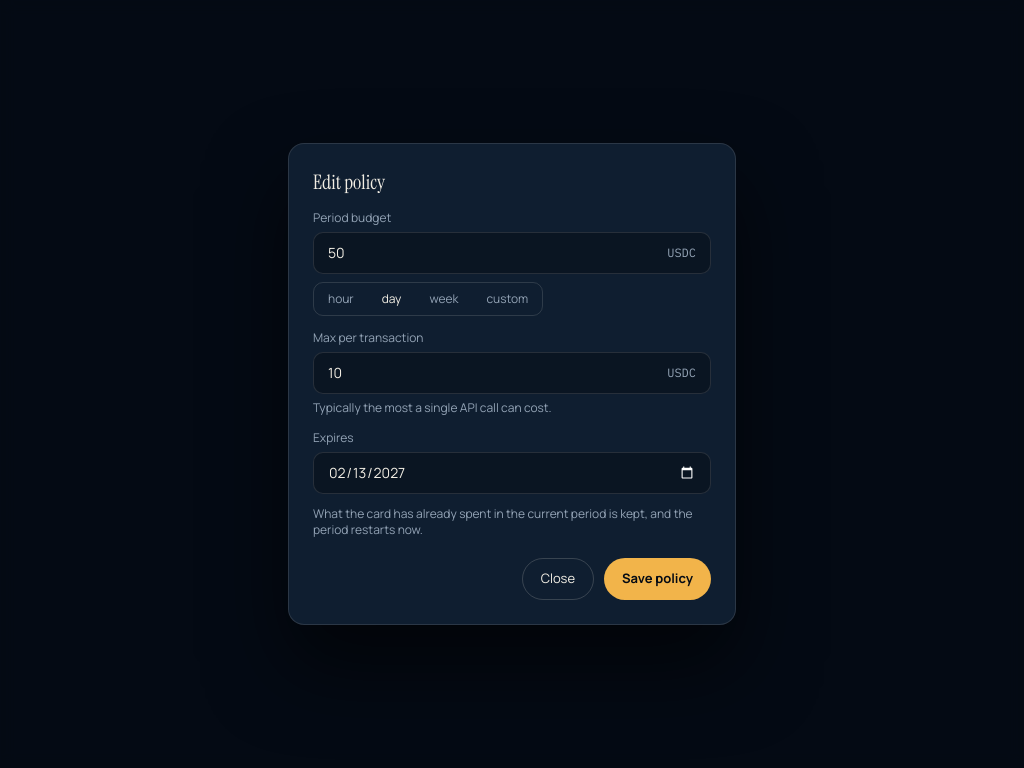
PolicyModal › mirrors the contract's validation client-side
Replace the text in the field labelled "Max per transaction" with "80" at (494, 373), box [328,363,659,383]
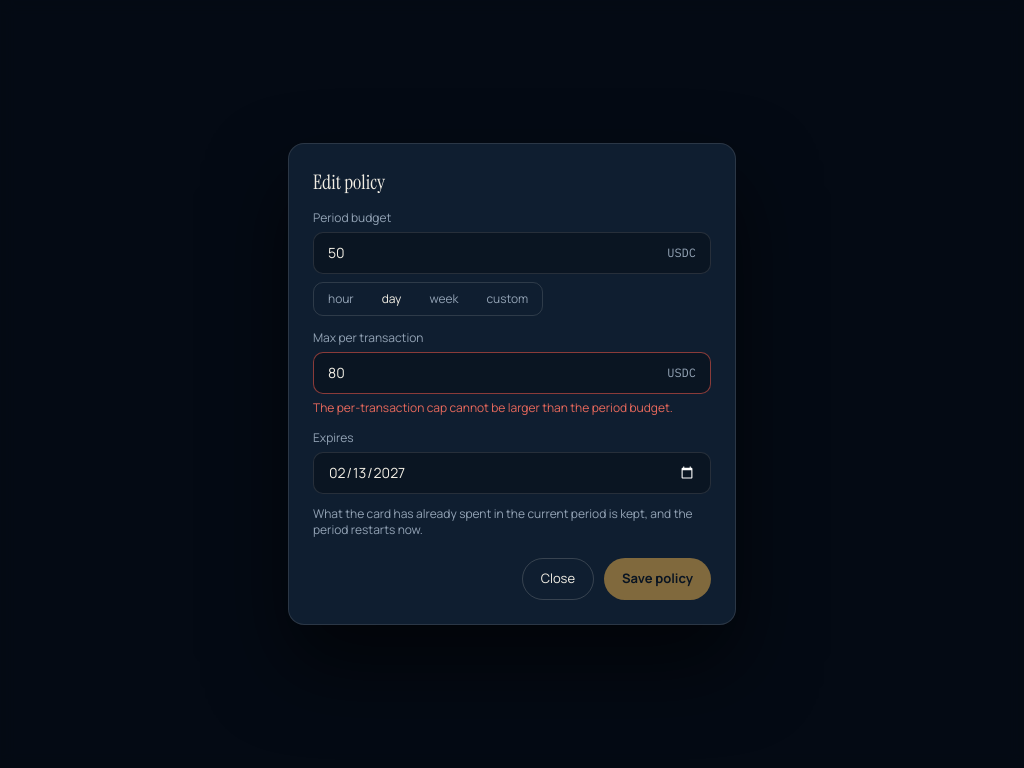
expect the text "cannot be larger than the period budget" is shown: met, box [313,399,673,416]
expect the button "Save policy" is disabled: met, box [604,558,711,600]
Replace the text in the field labelled "Max per transaction" with "10" at (494, 373), box [328,363,659,383]
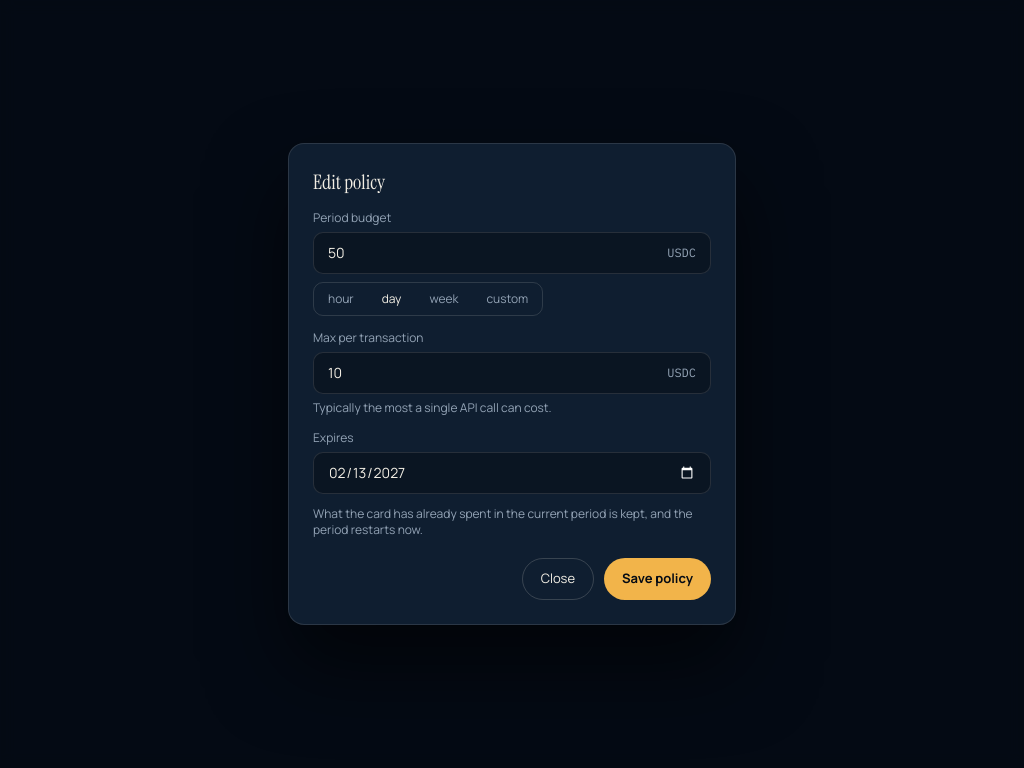
expect the button "Save policy" is enabled: met, box [604,558,711,600]
